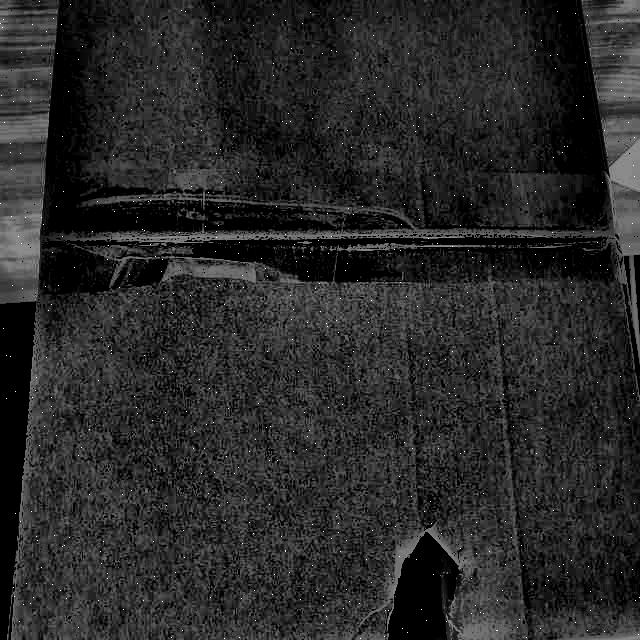box: (0, 1, 639, 640)
hole: (382, 528, 464, 640)
